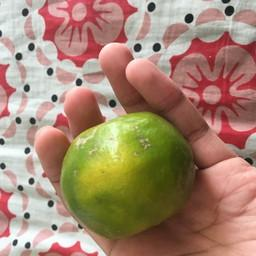Good_orange: (58, 120, 194, 237)
